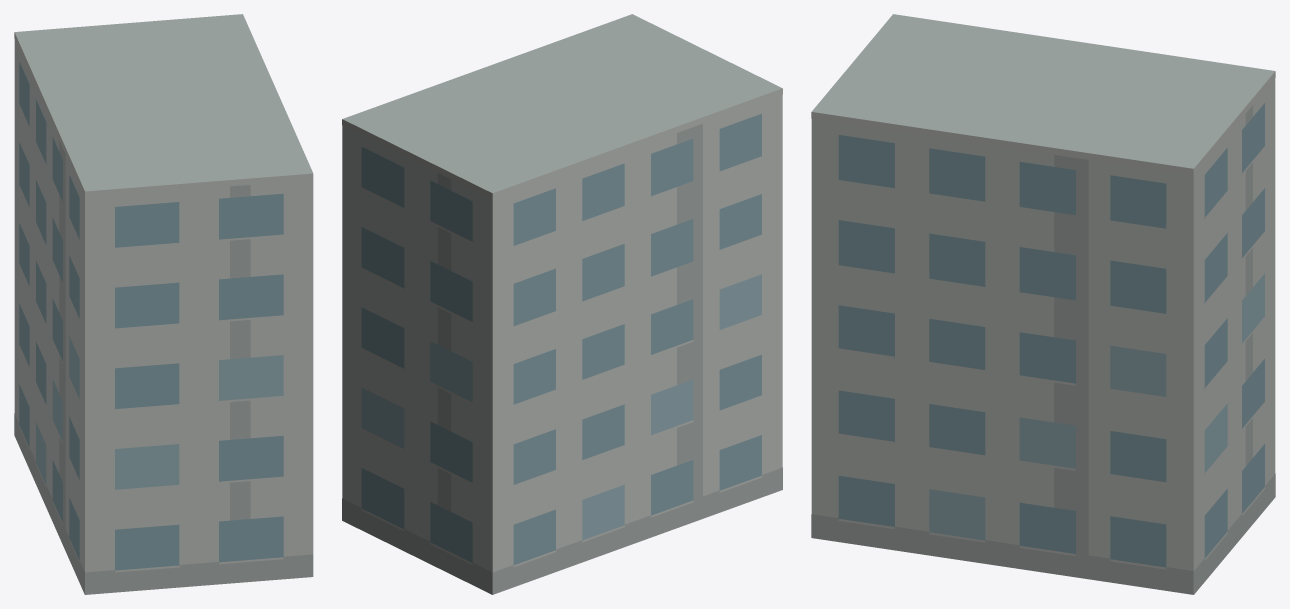
Rendered from residential-e1a52e66-e82b-45cc-8603-894f1ea81c6f.glb.
3 renders of one model, left to right at view 1: azimuth 30°, elevation 25°; view 2: azimuth 150°, elevation 25°; view 3: azimuth 270°, elevation 25°, orthographic. The views are drawn at different scales.
Parts seen in each view (by area): view 1: residential-e1a52e66-e82b-45cc-8603-894f1ea81c6f.tmp; view 2: residential-e1a52e66-e82b-45cc-8603-894f1ea81c6f.tmp; view 3: residential-e1a52e66-e82b-45cc-8603-894f1ea81c6f.tmp.
Boxes of the visible parts, bbox=[...] form: residential-e1a52e66-e82b-45cc-8603-894f1ea81c6f.tmp: bbox=[14, 14, 313, 594]; residential-e1a52e66-e82b-45cc-8603-894f1ea81c6f.tmp: bbox=[342, 14, 782, 594]; residential-e1a52e66-e82b-45cc-8603-894f1ea81c6f.tmp: bbox=[811, 14, 1275, 594].
Bounding box in the file's own units: 11.89 × 15.25 × 15.06.
